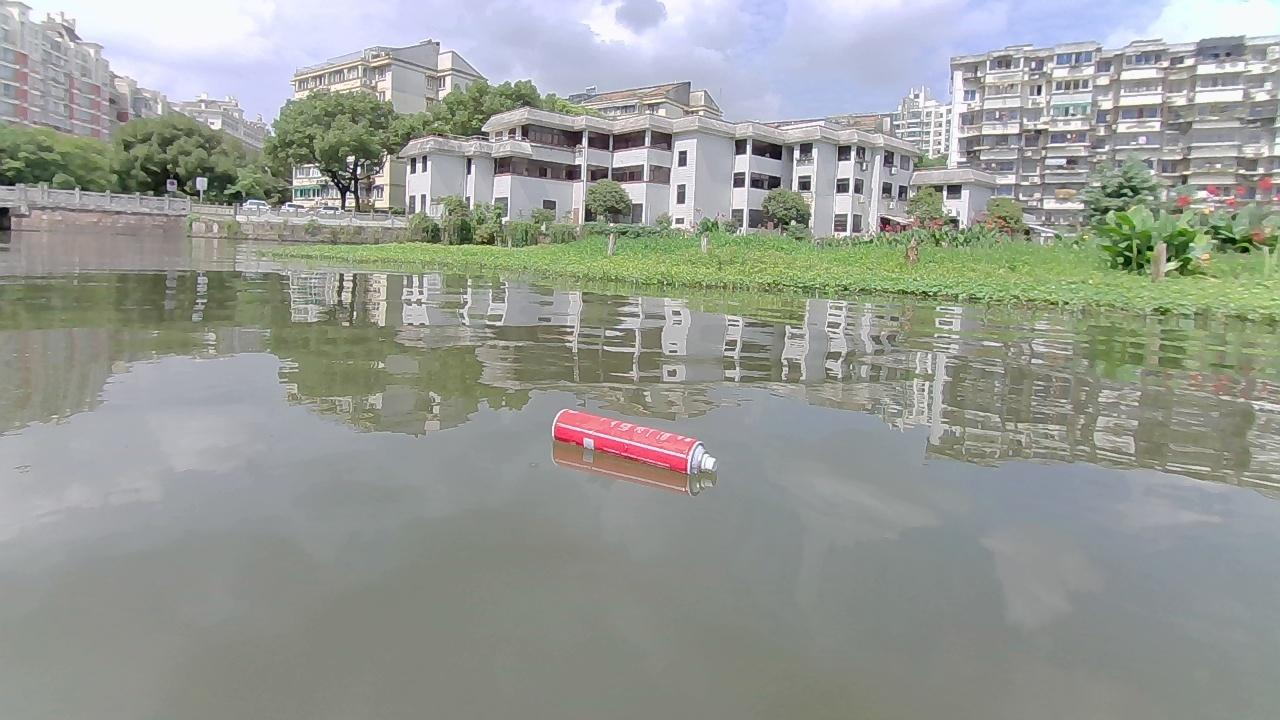bottle: (550, 406, 717, 473)
